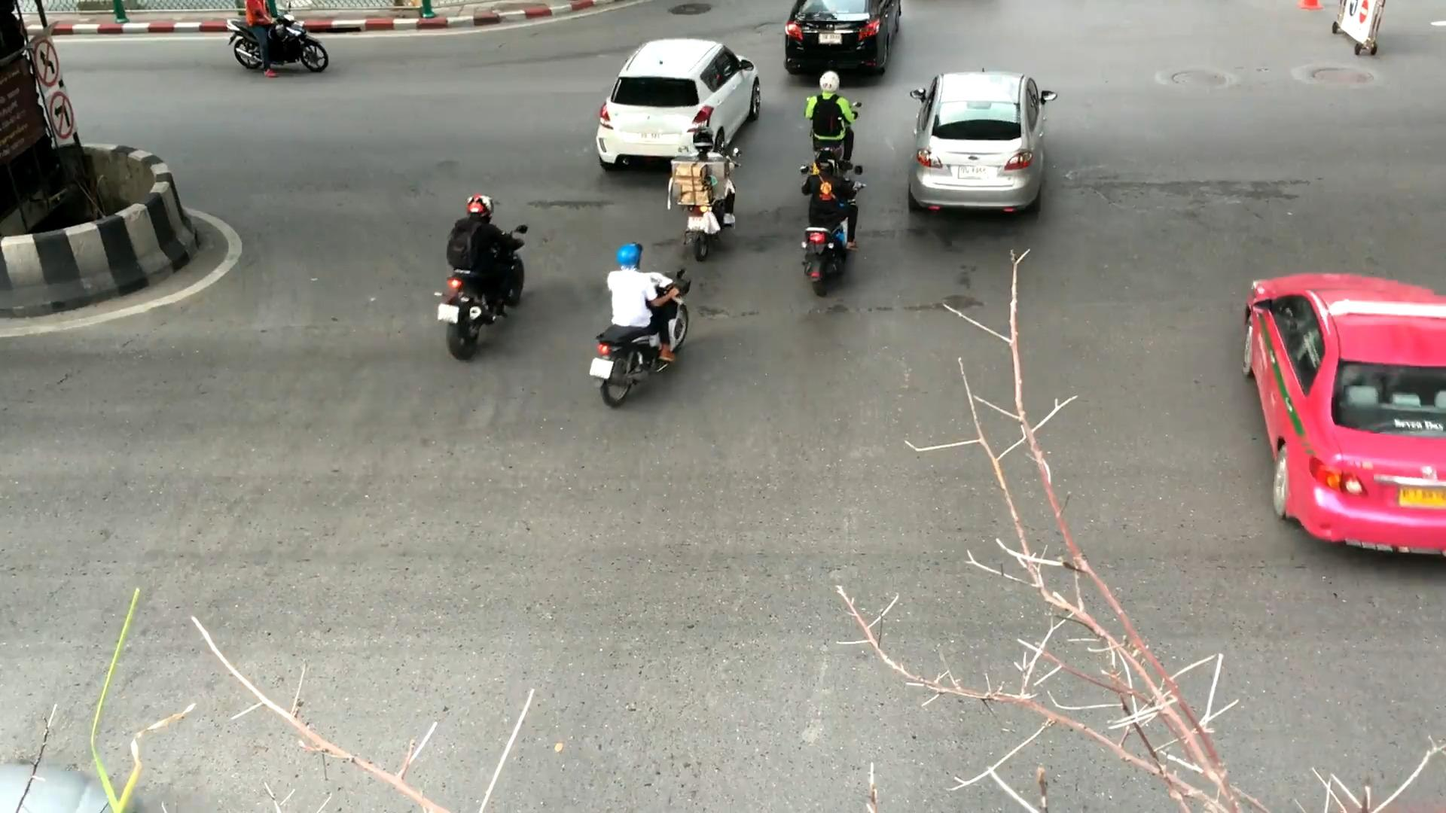driver: (589, 241, 692, 409), (434, 193, 528, 360), (799, 148, 866, 297), (671, 129, 742, 262), (226, 0, 329, 78), (804, 71, 862, 170)
helmet: (466, 193, 494, 224), (615, 241, 643, 270), (815, 148, 838, 175), (693, 129, 714, 153), (820, 71, 840, 92)
